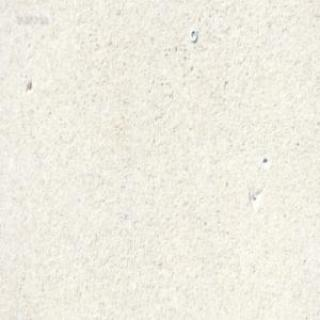Washertrack_idkeyframe: (188, 26, 196, 42)
